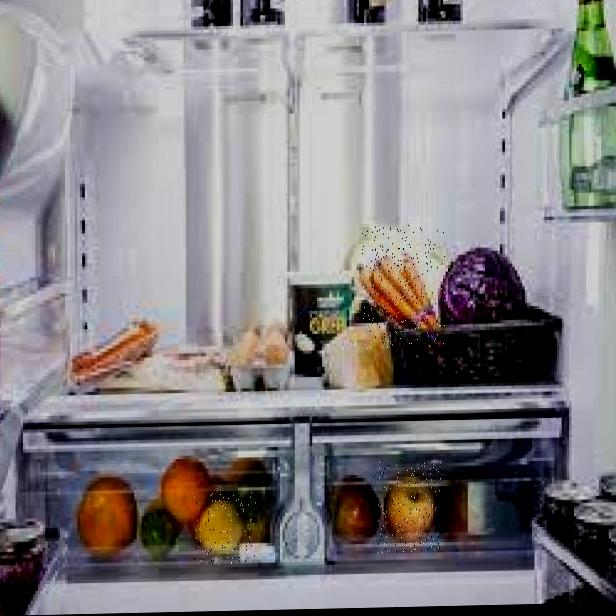apples: (378, 459, 441, 554)
carrots: (362, 224, 445, 349)
lemons: (194, 492, 256, 566)
